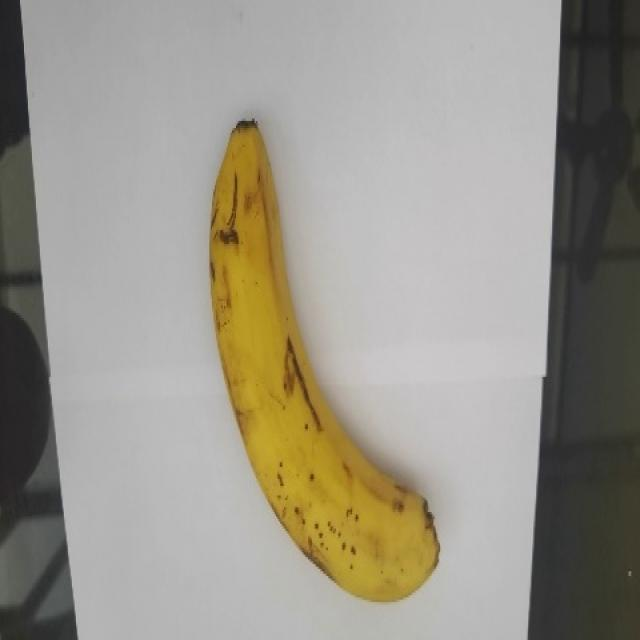Banana: (207, 117, 440, 602)
